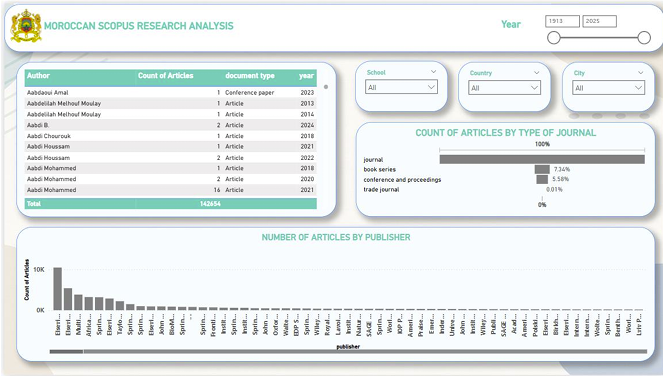

This screenshot's page, from the dashboard's own definition file:
{"tool":"powerbi","page":{"name":"Dashboard5","canvas":[1280,720],"ordinal":4},"visuals":[{"type":"slicer","fields":{"Values":["Affiliation.city"]},"box":[1081,113.4,179.5,96.4],"z":0},{"type":"slicer","fields":{"Values":["Affiliation.country"]},"box":[880.6,113.4,179.5,96.4],"z":1000},{"type":"slicer","fields":{"Values":["Affiliation.school"]},"box":[680.3,111.5,179.5,98.3],"z":2000},{"type":"columnChart","title":"NUMBER OF ARTICLES BY PUBLISHER","fields":{"Category":["Journal.publisher"],"Y":["CountNonNull(Metadata.doc_id)"]},"box":[22.7,432.8,1237.8,260.8],"z":3000},{"type":"funnel","title":"COUNT OF ARTICLES BY TYPE OF JOURNAL","fields":{"Category":["Journal.type"],"Y":["CountNonNull(Metadata.doc_id)"]},"box":[682.2,230.6,580.2,183.3],"z":4000},{"type":"tableEx","fields":{"Values":["Author.author_name","Metadata.doc_id","Document.document type","Metadata.year"]},"box":[22.7,113.4,619.8,300.5],"z":5000},{"type":"textbox","box":[0,2,1280,92],"z":6000},{"type":"image","box":[0,0,84.5,84.5],"z":7000},{"type":"textbox","box":[71.8,26.5,393.1,41.6],"z":8000},{"type":"textbox","box":[958,24,68,34.7],"z":9000},{"type":"slicer","fields":{"Values":["Metadata.year"]},"box":[1026,3.3,244,86.7],"z":10000}]}

Visuals, with their boxes in screenshot pixels (x1, y1, x2, y2), scaled from the page's 1280x720 canvas onto the 663x376 screenshot:
slicer - Affiliation.city: {"x1": 560, "y1": 59, "x2": 653, "y2": 110}
slicer - Affiliation.country: {"x1": 456, "y1": 59, "x2": 549, "y2": 110}
slicer - Affiliation.school: {"x1": 352, "y1": 58, "x2": 445, "y2": 110}
"NUMBER OF ARTICLES BY PUBLISHER" columnChart: {"x1": 12, "y1": 226, "x2": 653, "y2": 362}
"COUNT OF ARTICLES BY TYPE OF JOURNAL" funnel: {"x1": 353, "y1": 120, "x2": 654, "y2": 216}
tableEx - Author.author_name x Metadata.doc_id: {"x1": 12, "y1": 59, "x2": 333, "y2": 216}
textbox: {"x1": 0, "y1": 1, "x2": 662, "y2": 49}
image: {"x1": 0, "y1": 0, "x2": 44, "y2": 44}
textbox: {"x1": 37, "y1": 14, "x2": 241, "y2": 36}
textbox: {"x1": 496, "y1": 13, "x2": 531, "y2": 31}
slicer - Metadata.year: {"x1": 531, "y1": 2, "x2": 658, "y2": 47}
